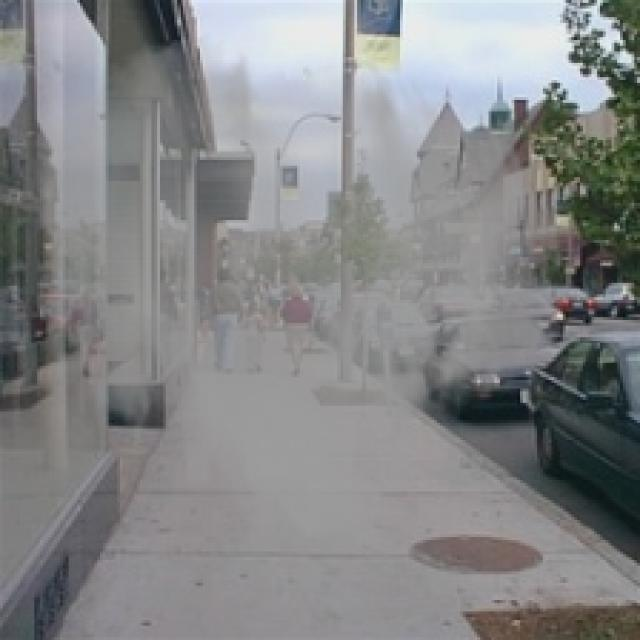smoke: (26, 32, 568, 577)
